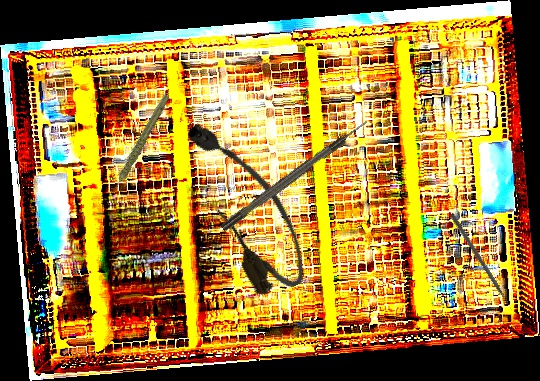Cannula: (174, 105, 319, 304)
Handpiece: (89, 93, 188, 194)
Hook Surgical: (219, 118, 371, 232)
Pusher: (448, 212, 515, 314)
